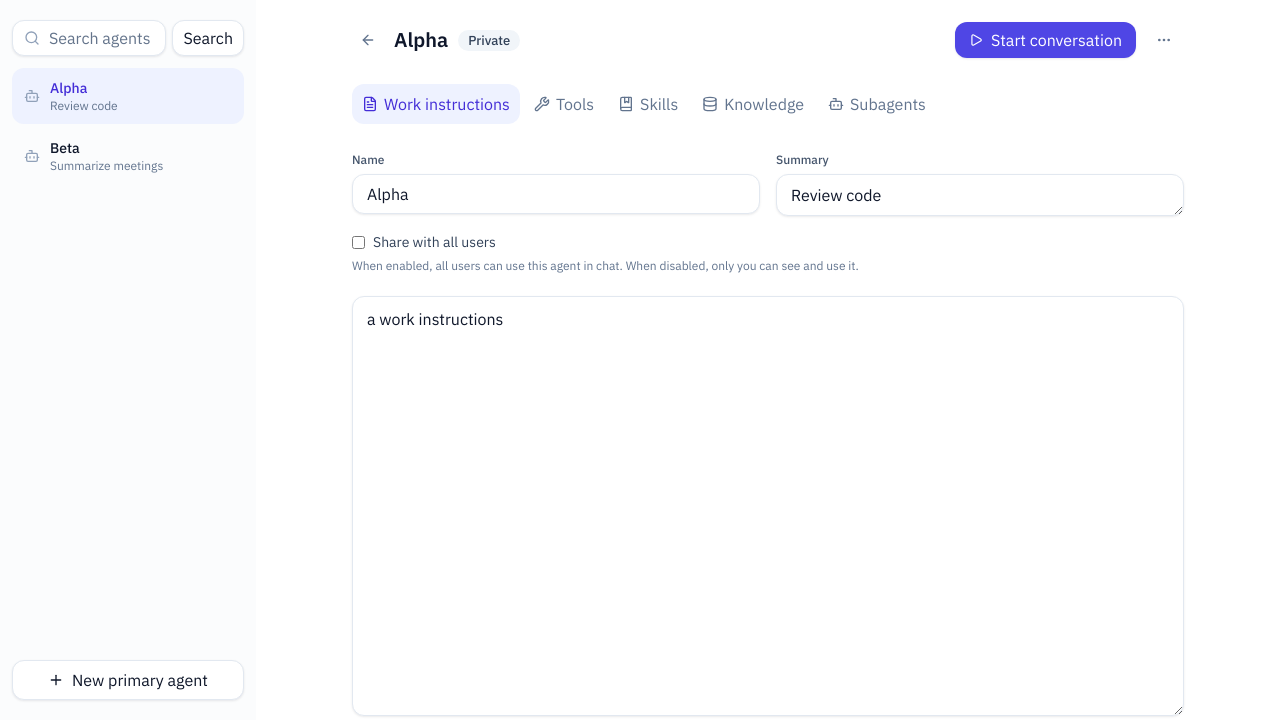
Test case: agent management split view › can stay or discard changes before selecting another agent
Replace the text in the field showing "Alpha" with "Unsaved name" at coordinates (556, 194), box 352,174 -> 760,214
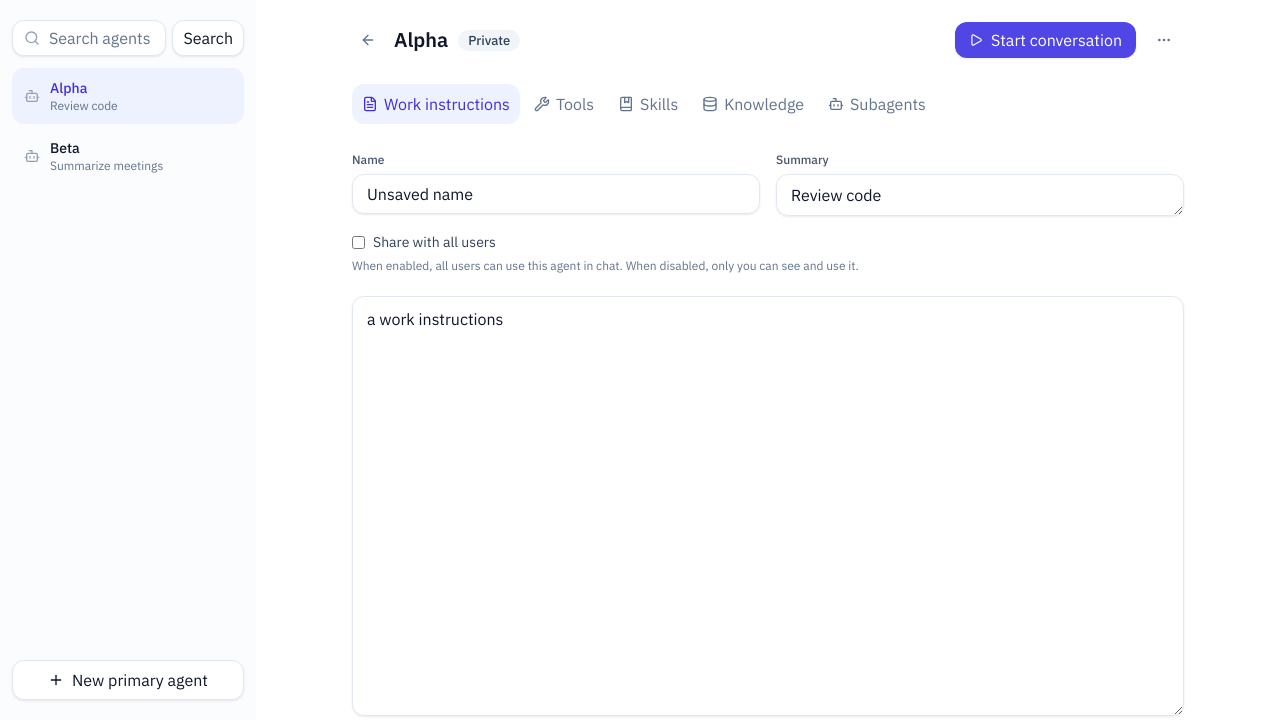
Click the button "Beta Summarize meetings" at coordinates (128, 156), box 12,128 -> 244,184
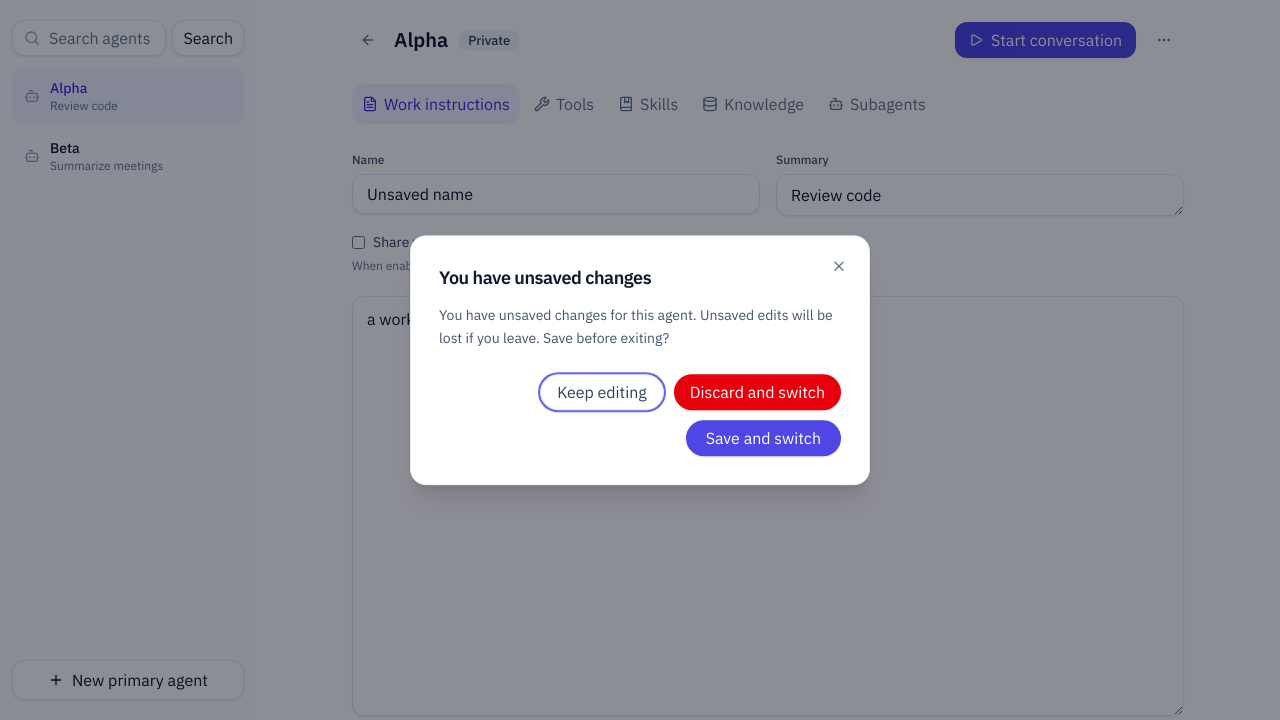
Expected: the dialog is shown, 410,235 -> 870,485
Click the button "Keep editing" at coordinates (602, 392), box 540,374 -> 664,410
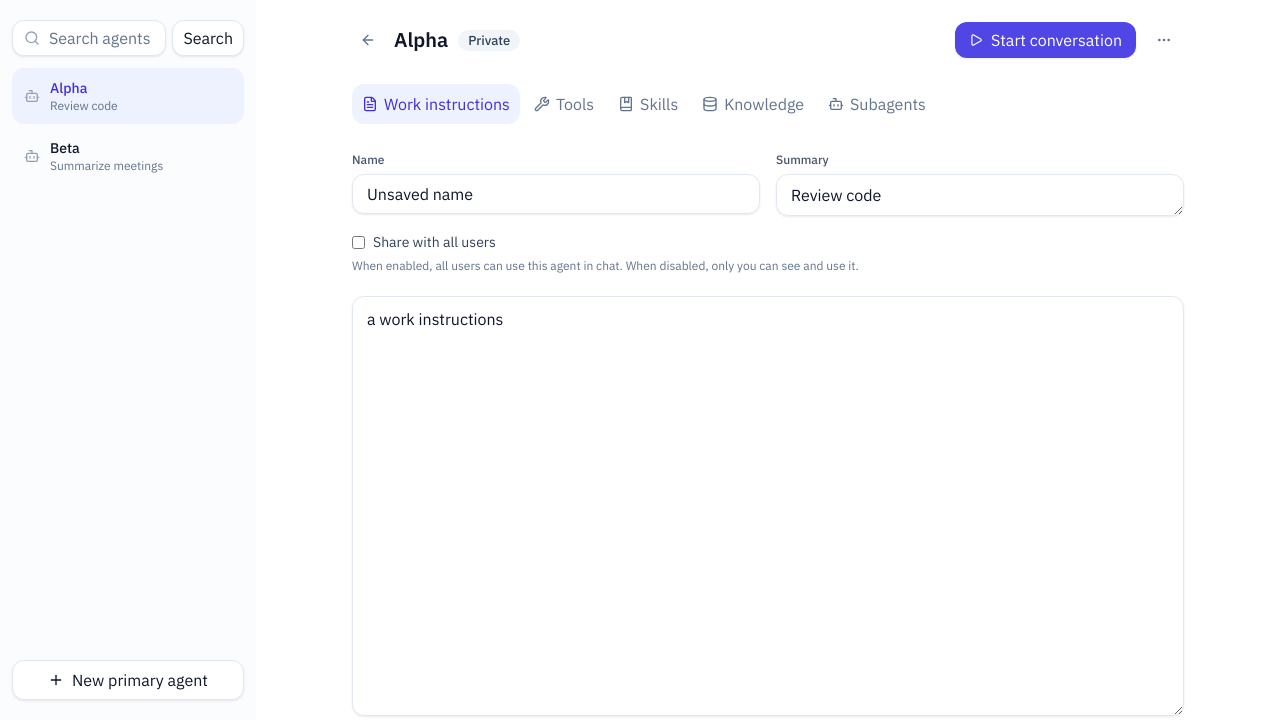
Click the button "Beta Summarize meetings" at coordinates (128, 156), box 12,128 -> 244,184
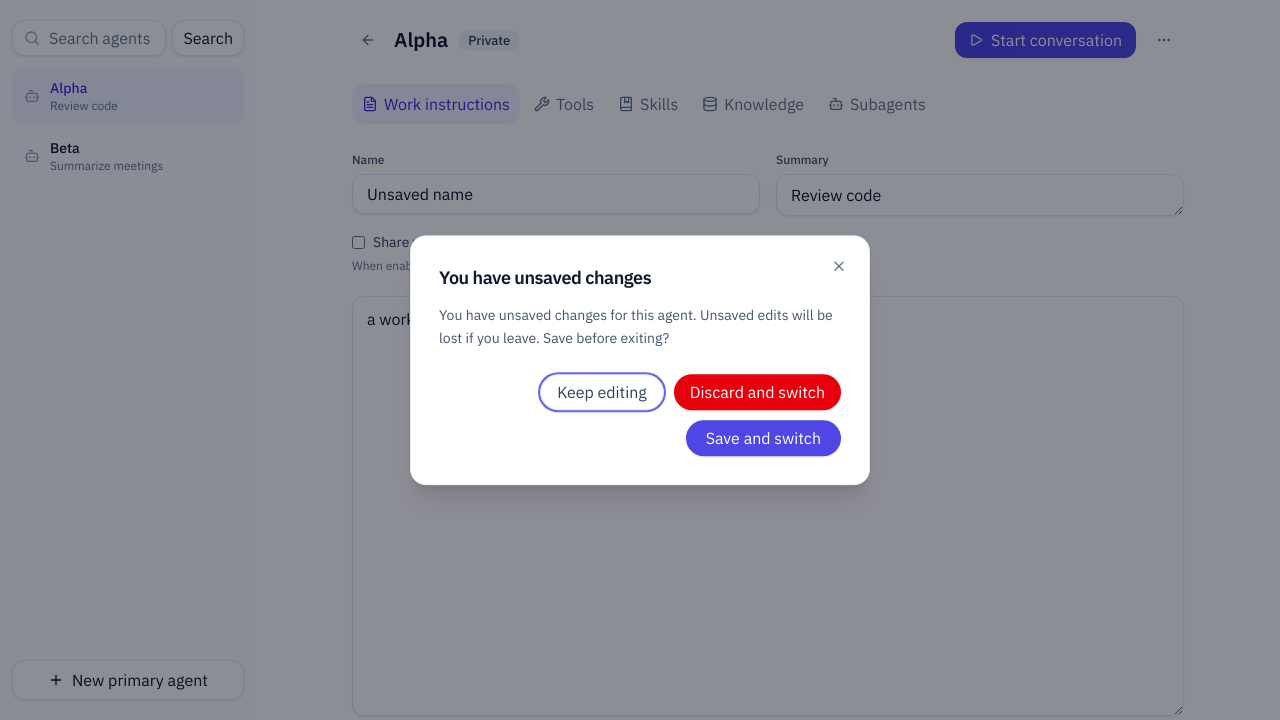
Click the button "Discard and switch" at coordinates (757, 392), box 674,374 -> 841,410
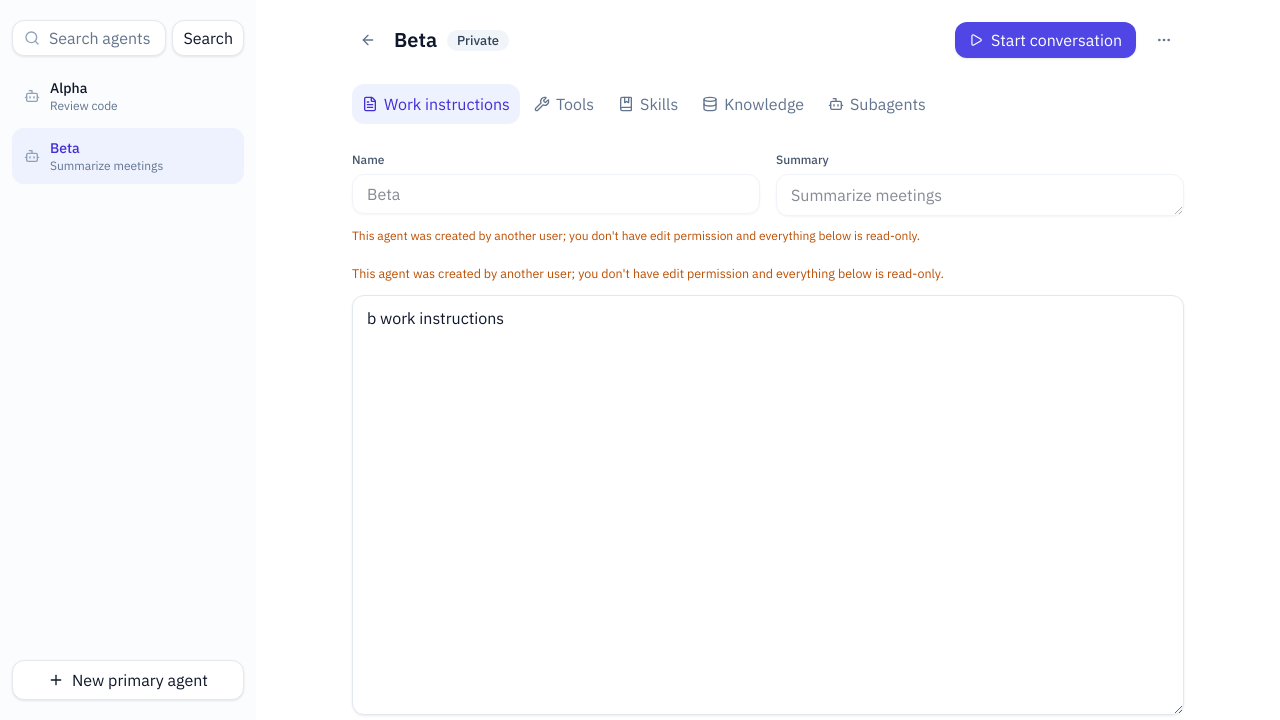
Expected: the field showing "Beta" is shown, 352,174 -> 760,214
